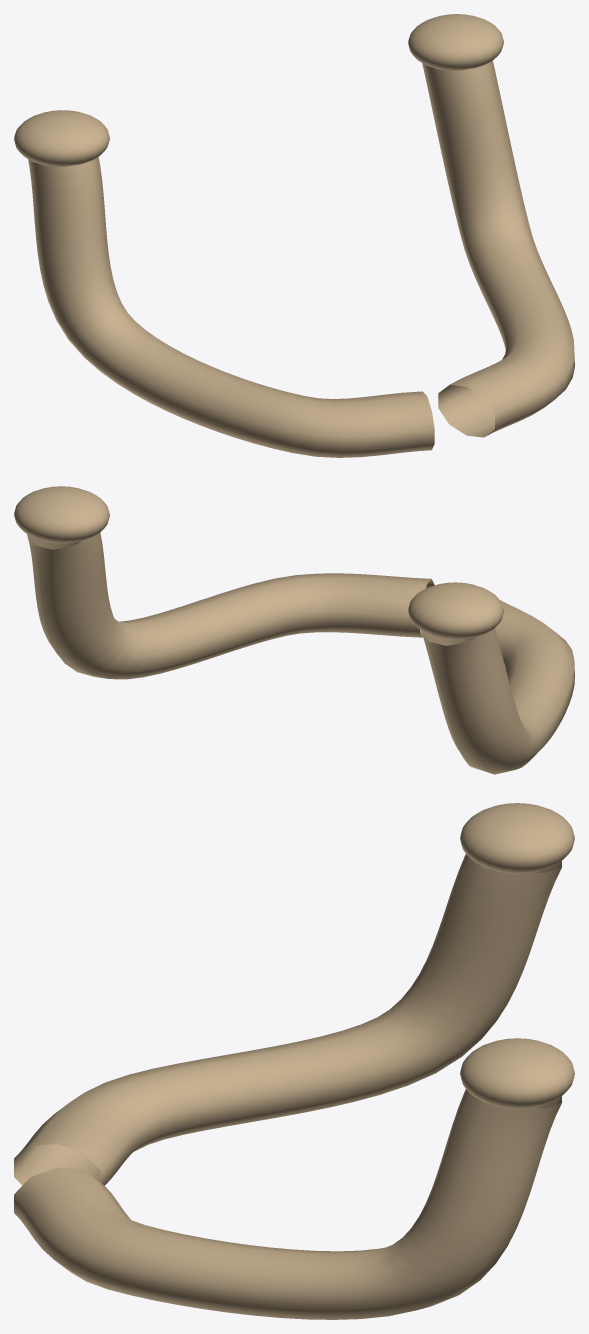
Rendered from mandible.glb.
The picture shows the model from 3 angles, top to bottom: view 1: azimuth 30°, elevation 25°; view 2: azimuth 150°, elevation 25°; view 3: azimuth 270°, elevation 25°; orthographic projection. The views are drawn at different scales.
Visible parts, largest first — view 1: mandible:hemimandible--1, mandible:hemimandible-1, mandible:condyle--1, mandible:condyle-1; view 2: mandible:hemimandible-1, mandible:hemimandible--1, mandible:condyle-1, mandible:condyle--1; view 3: mandible:hemimandible-1, mandible:hemimandible--1, mandible:condyle-1, mandible:condyle--1.
Boxes of the visible parts, bbox=[...] form: mandible:hemimandible--1: bbox=[28, 157, 434, 457]; mandible:hemimandible-1: bbox=[422, 60, 574, 437]; mandible:condyle--1: bbox=[14, 110, 109, 166]; mandible:condyle-1: bbox=[408, 14, 503, 70]; mandible:hemimandible-1: bbox=[27, 532, 434, 679]; mandible:hemimandible--1: bbox=[421, 600, 574, 774]; mandible:condyle-1: bbox=[14, 486, 109, 543]; mandible:condyle--1: bbox=[408, 582, 503, 639]; mandible:hemimandible-1: bbox=[14, 1089, 562, 1319]; mandible:hemimandible--1: bbox=[14, 854, 561, 1185]; mandible:condyle-1: bbox=[460, 1038, 574, 1108]; mandible:condyle--1: bbox=[460, 803, 574, 873].
Size of the model in its own units: 0.7546 by 0.3528 by 0.6272.
